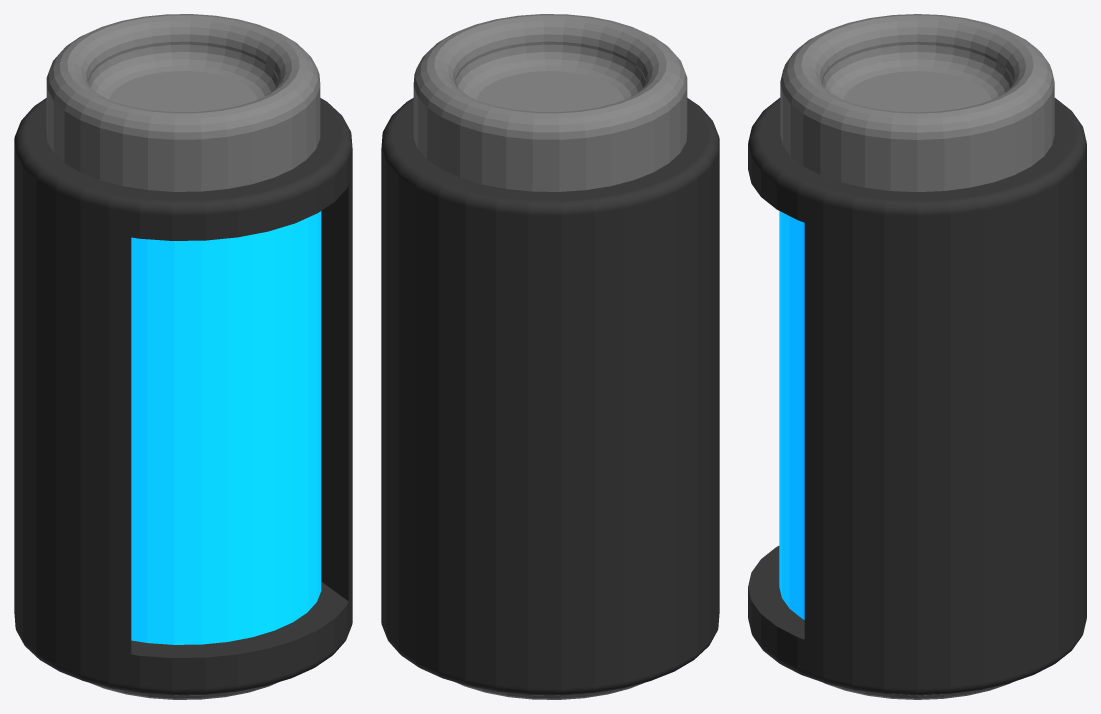
File: batteryfloat.glb
3 renders of one model, left to right at view 1: azimuth 30°, elevation 25°; view 2: azimuth 150°, elevation 25°; view 3: azimuth 270°, elevation 25°, orthographic.
Visible parts, largest first — view 1: Cylinder.001; view 2: Cylinder.001; view 3: Cylinder.001.
Part boxes in pixels (x1=…): Cylinder.001: x1=14, y1=14, x2=352, y2=699; Cylinder.001: x1=381, y1=14, x2=719, y2=699; Cylinder.001: x1=748, y1=14, x2=1086, y2=699.
Size of the model in its own units: 3.06 by 5.83 by 3.06.
